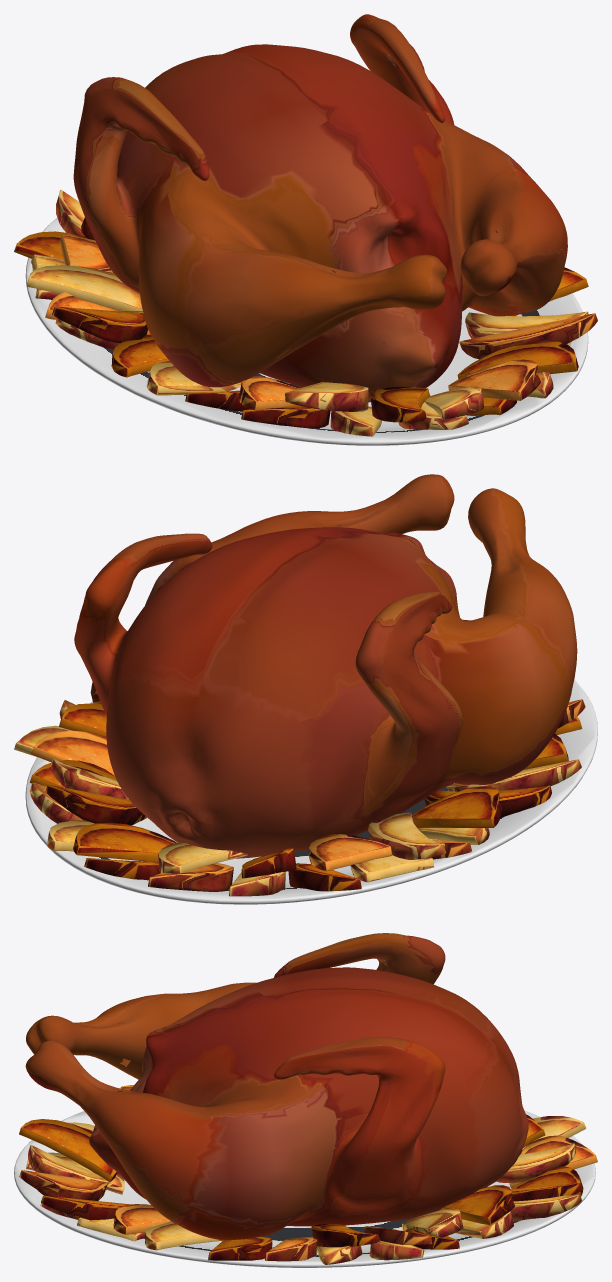
3 views of the same model, one above another, from view 1: azimuth 30°, elevation 25°; view 2: azimuth 150°, elevation 25°; view 3: azimuth 270°, elevation 25° (orthographic). The views are drawn at different scales.
Size of the model in its own units: 0.2452 by 0.1317 by 0.3159.
Materials: 5 (5 with a texture image).
